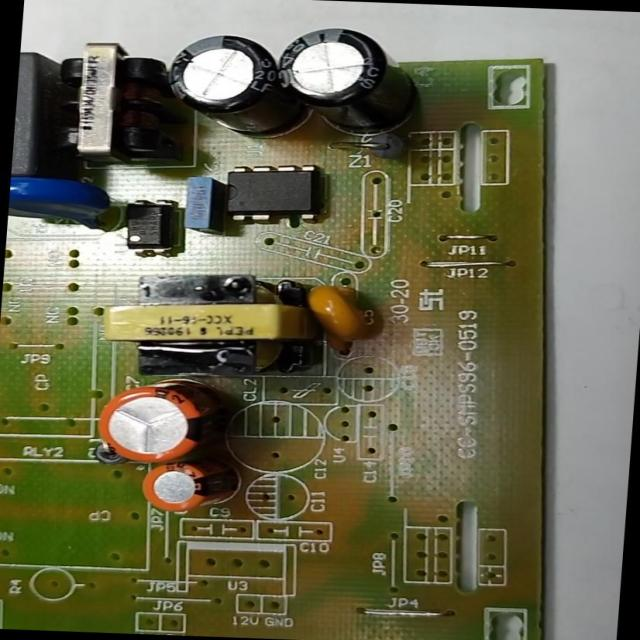Cap1: (98, 380, 230, 460)
Cap2: (139, 459, 238, 510)
Cap3: (162, 32, 284, 132)
Cap4: (275, 25, 426, 134)
MOSFET: (223, 162, 321, 220)
Mov: (8, 175, 110, 227)
Transformer: (95, 269, 316, 376), (50, 41, 182, 168)
